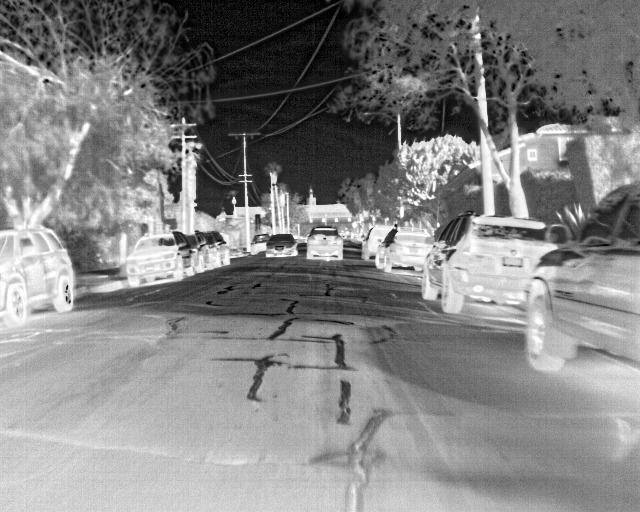car: (523, 178, 639, 376), (421, 211, 557, 317), (0, 225, 75, 326), (124, 233, 189, 286), (377, 229, 431, 271), (361, 224, 399, 261), (304, 224, 343, 259), (203, 229, 229, 267), (188, 229, 210, 273), (265, 232, 297, 259), (251, 233, 268, 253)
